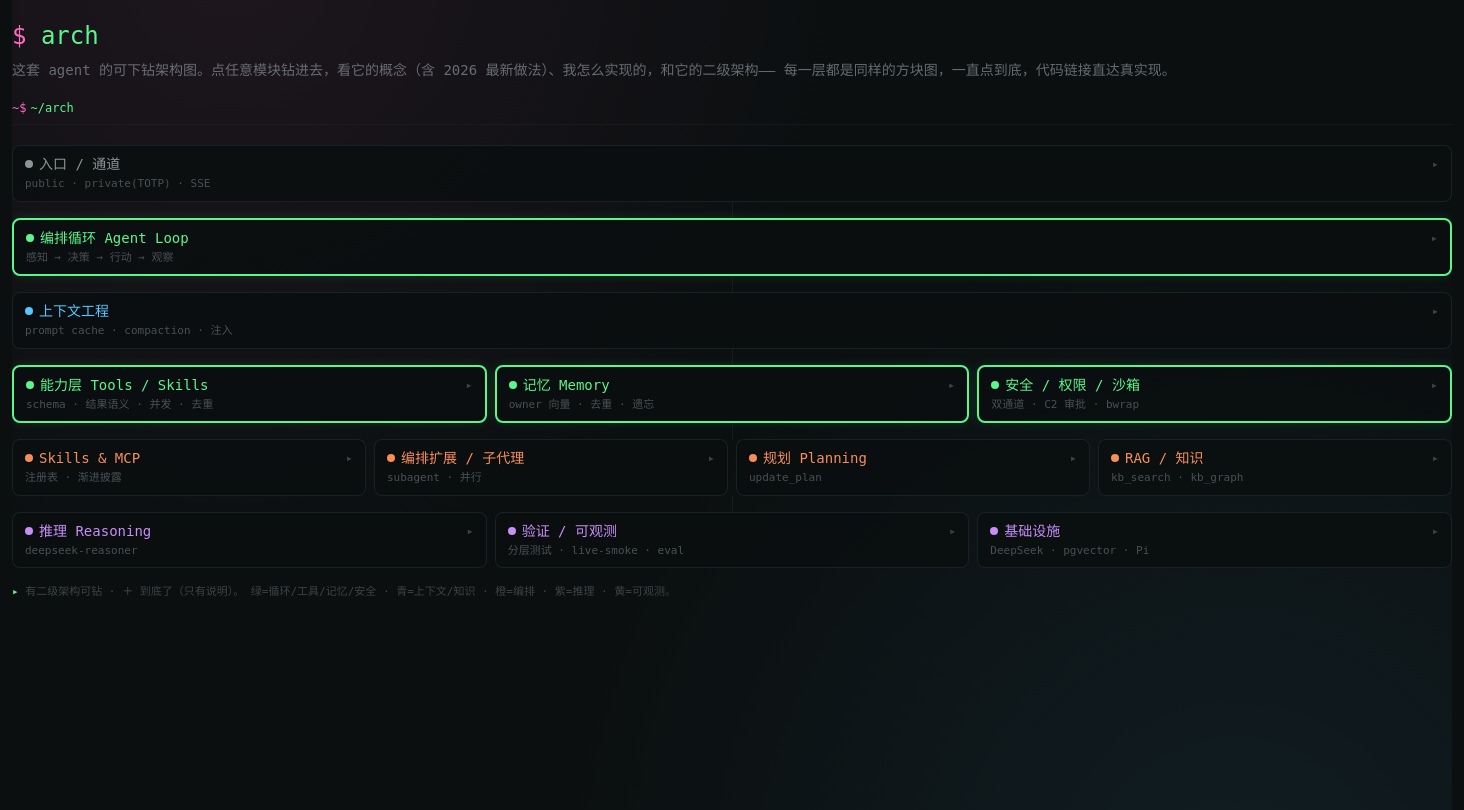
Scenario: Arch 架构解剖器（原地下钻） › P2 节点(RAG)也能钻进去看二级
The image size is (1464, 810).
What coordinates should you click on to do the following:
click the text "RAG / 知识"
I would click on:
 (1164, 458)
Its box is [1125, 450, 1204, 466].
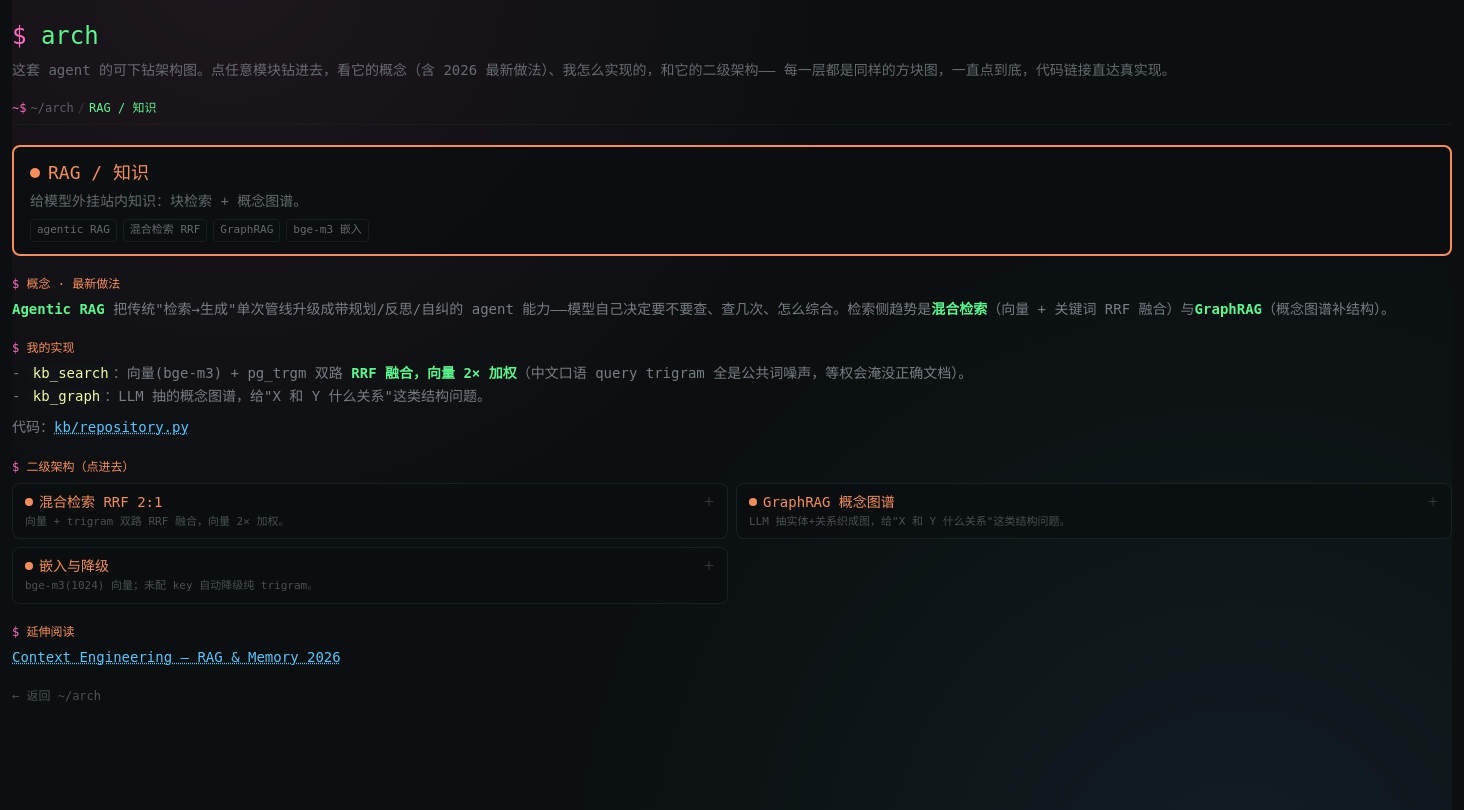
Check: the text "混合检索 RRF 2:1" is shown, box [39, 494, 162, 510]
Check: the text "GraphRAG 概念图谱" is shown, box [763, 494, 895, 510]
